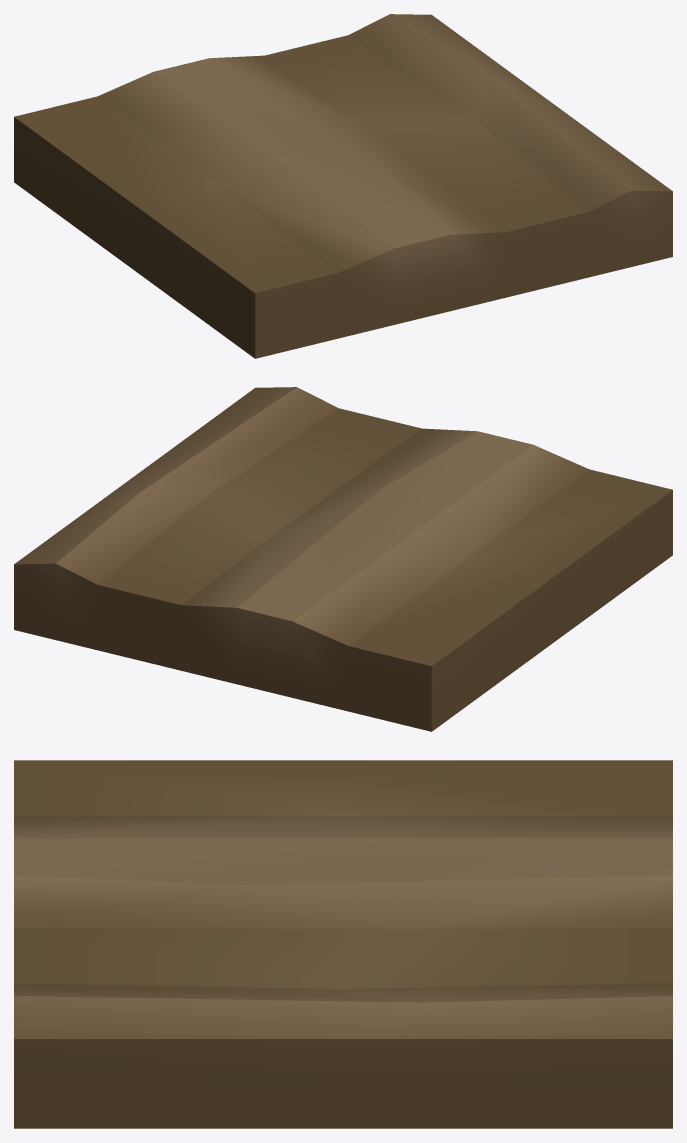
Rendered from Farmland_Soil_EdgeSide.fbx.
3 renders of one model, top to bottom at view 1: azimuth 30°, elevation 25°; view 2: azimuth 150°, elevation 25°; view 3: azimuth 270°, elevation 25°, orthographic. The views are drawn at different scales.
Parts seen in each view (by area): view 1: Farmland_Soil_EdgeSide; view 2: Farmland_Soil_EdgeSide; view 3: Farmland_Soil_EdgeSide.
Boxes of the visible parts, left/top/right/bottom form: Farmland_Soil_EdgeSide: left=14, top=14, right=672, bottom=358; Farmland_Soil_EdgeSide: left=14, top=387, right=672, bottom=731; Farmland_Soil_EdgeSide: left=14, top=760, right=672, bottom=1128.
Size of the model in its own units: 2 by 0.35 by 2.
Materials: 1 (1 with a texture image).
